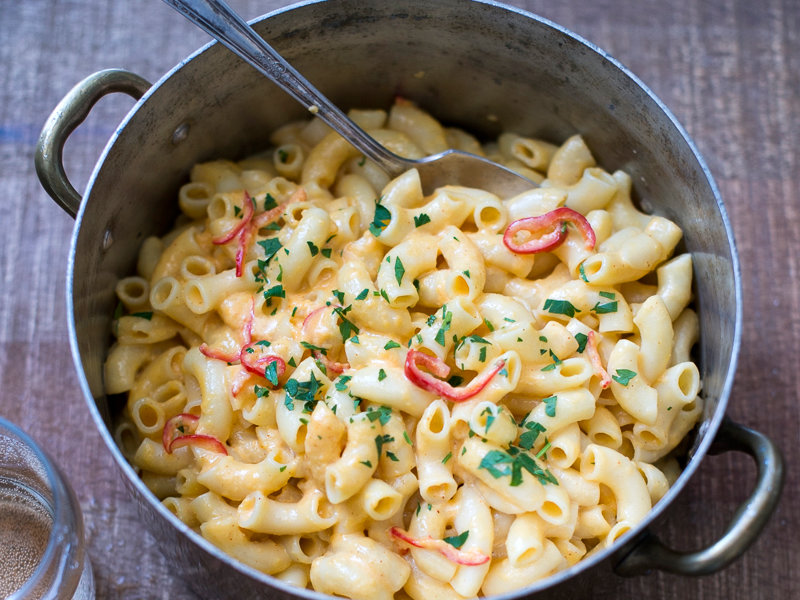macncheese: (105, 103, 734, 571)
